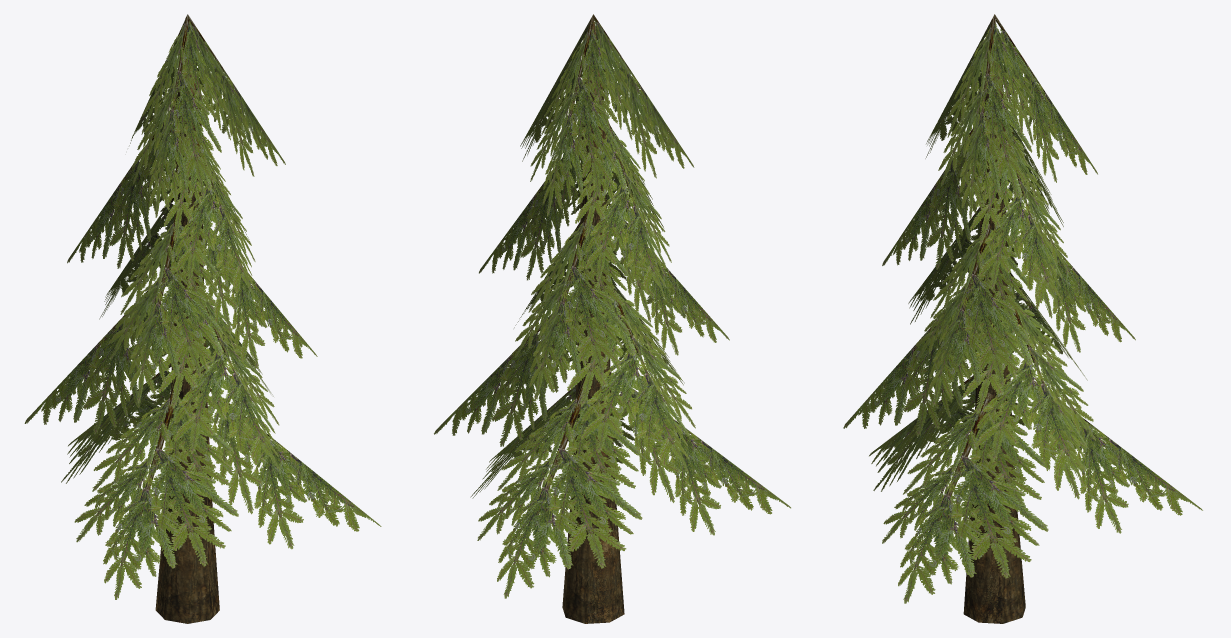
The model's file is Tree01.FBX.
3 views of the same model, side by side, from view 1: azimuth 30°, elevation 25°; view 2: azimuth 150°, elevation 25°; view 3: azimuth 270°, elevation 25° (orthographic).
Parts seen in each view (by area): view 1: Tree01; view 2: Tree01; view 3: Tree01.
Part boxes in pixels (x1,y1,x2,y2): Tree01: (24,14,381,623); Tree01: (434,14,790,623); Tree01: (843,14,1202,623).
Bounding box in the file's own units: 594 × 1119 × 651.
